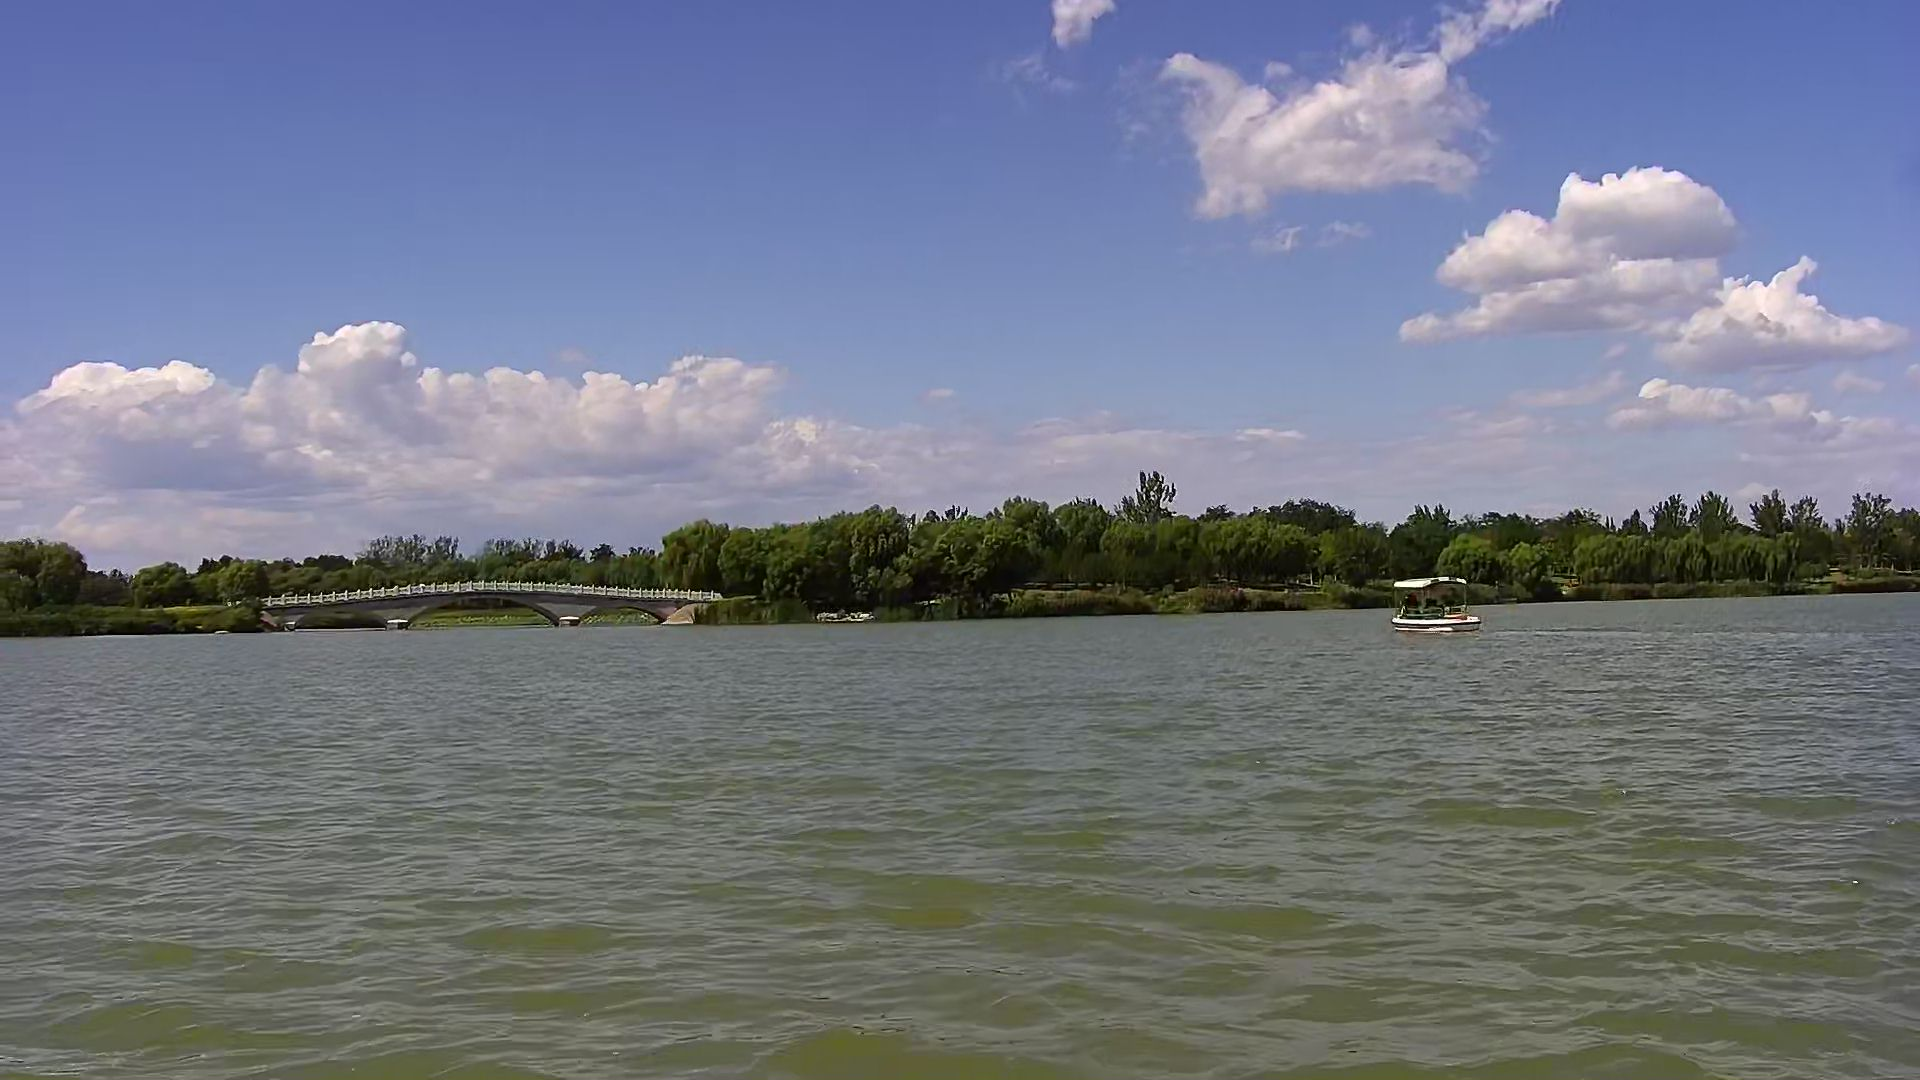boat: (1386, 568, 1484, 632)
bridge: (285, 580, 692, 634)
